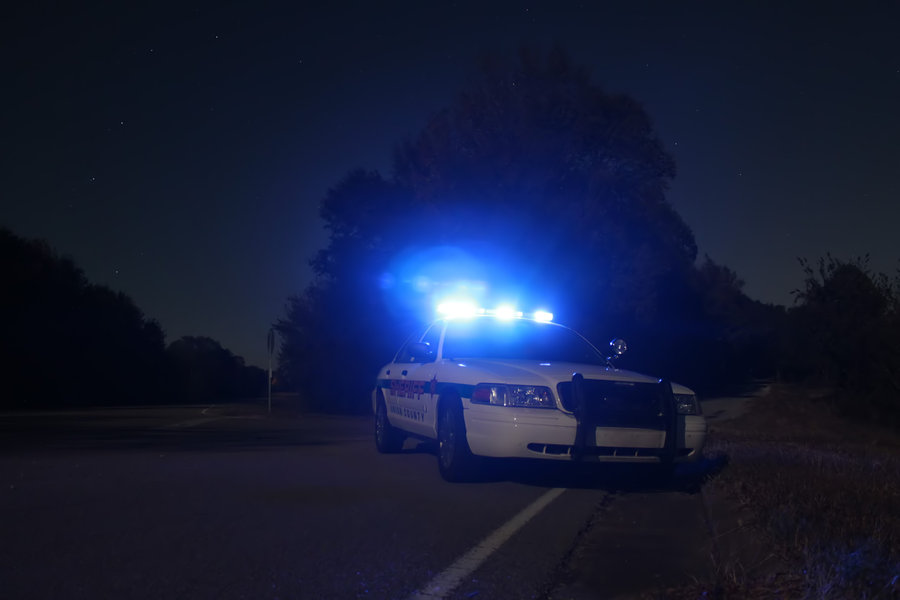car: (359, 290, 719, 496)
